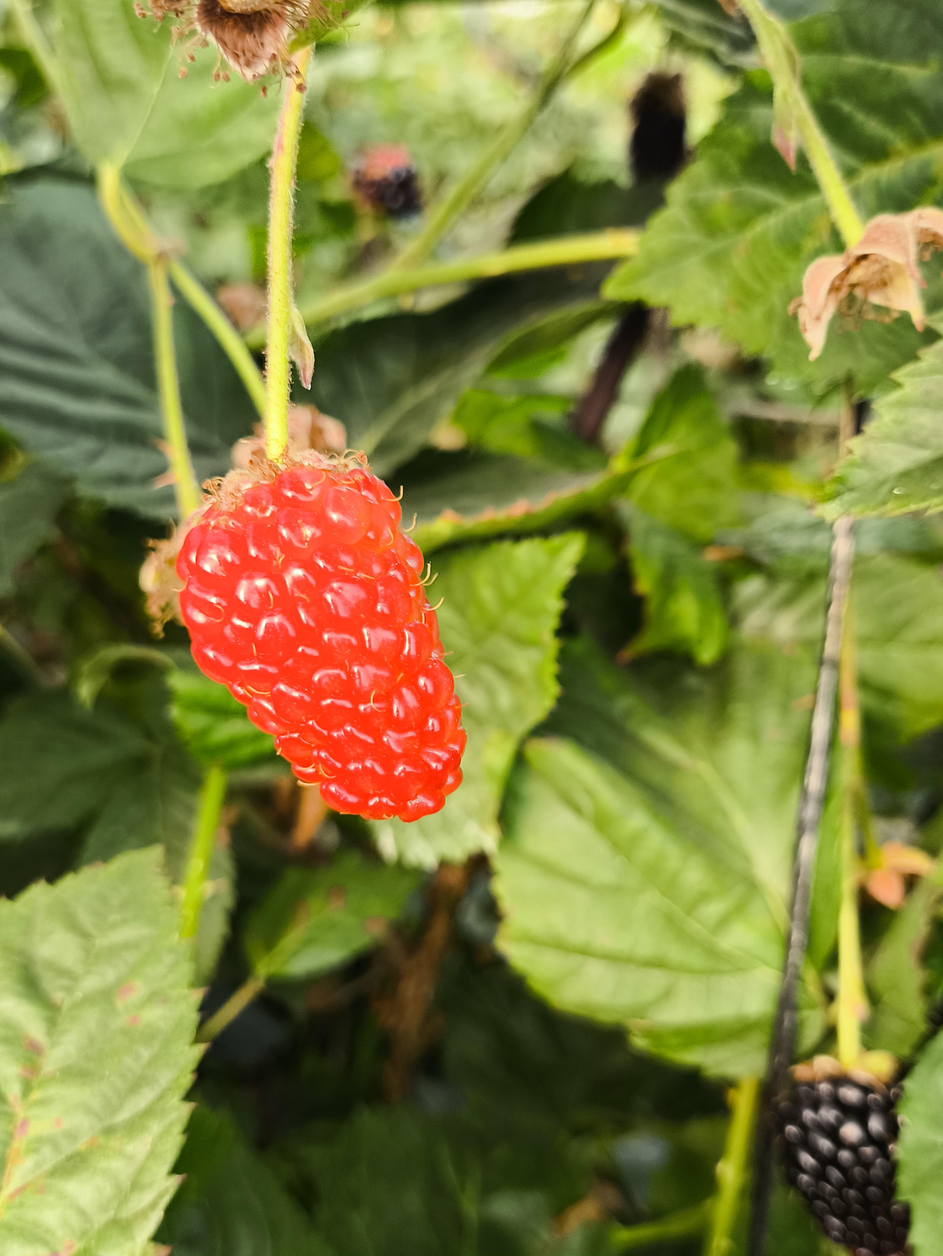maduro: (775, 1073, 909, 1256)
naranja: (176, 456, 466, 822)
